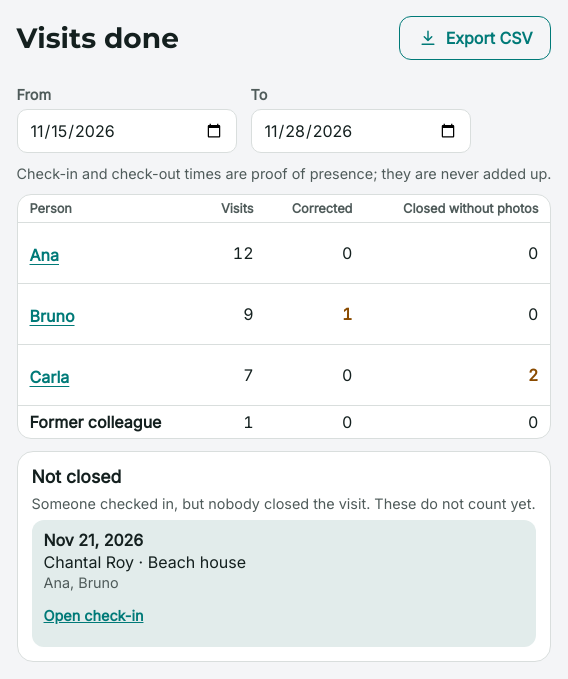
Test case: the Visits done report › checks the range before asking: the start after the end, or more than 366 days
This screenshot has width=568, height=679.
Expected: the table is shown, [18,195,550,438]
Type "2026-01-10" into the date field labelled "To".
click(360, 131); type("2026-01-10")  # box [250,109,470,153]
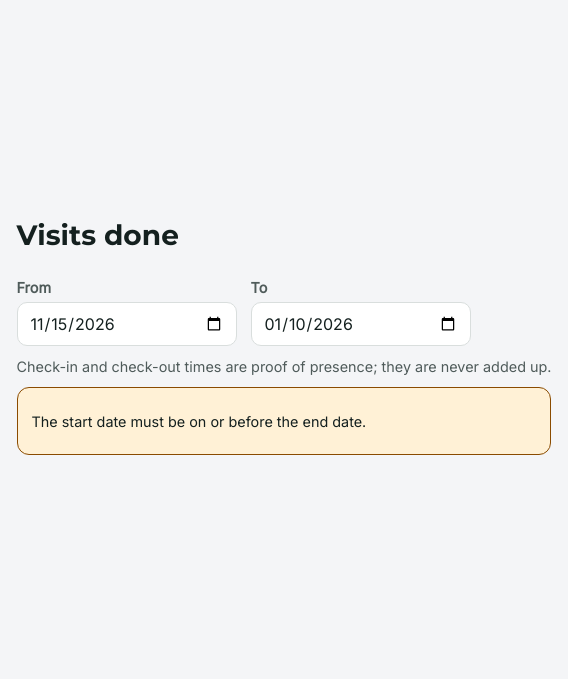
Type "2026-01-11" into the date field labelled "From".
click(126, 324); type("2026-01-11")  # box [16,302,236,346]
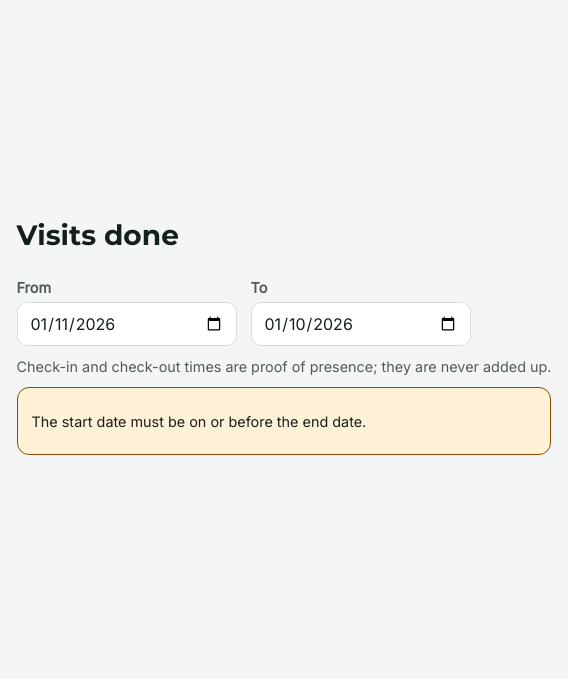
Expected: the link "Export CSV" is not shown
Expected: the text "The start date must be on or before the end date." is shown, [32,413,366,430]
Type "2025-01-09" into the date field labelled "From".
click(126, 324); type("2025-01-09")  # box [16,302,236,346]
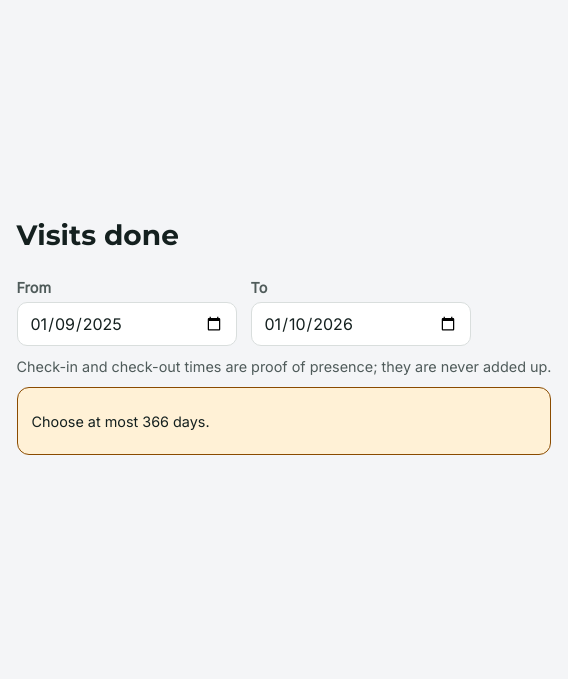
Expected: the text "Choose at most 366 days." is shown, [32,413,210,430]
Type "2025-01-10" into the date field labelled "From".
click(126, 324); type("2025-01-10")  # box [16,302,236,346]
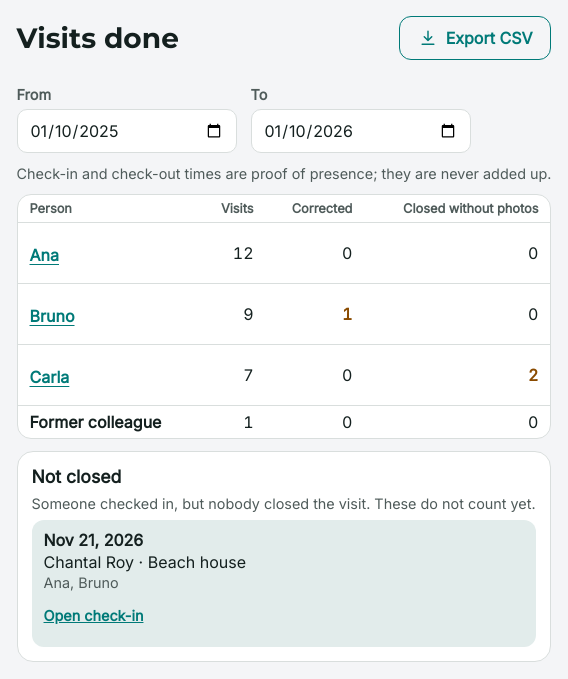
Expected: the text "Choose at most 366 days." is gone
